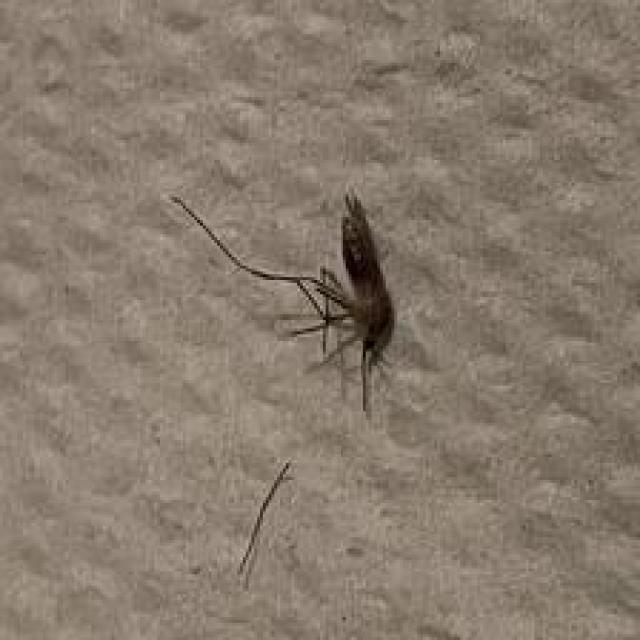Culex: (169, 187, 397, 416)
